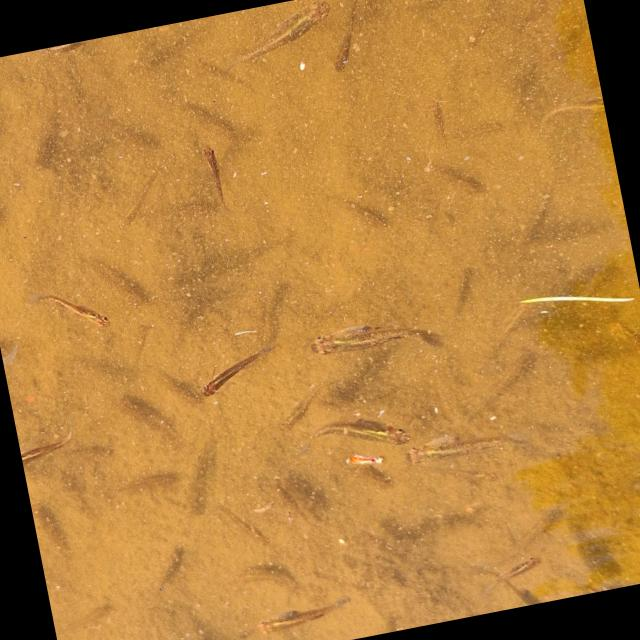Sivrisinek Baligi: (300, 307, 456, 377), (235, 0, 348, 63), (298, 403, 410, 462), (190, 341, 278, 403), (33, 276, 112, 344), (252, 591, 353, 640), (195, 140, 238, 213), (482, 550, 546, 591), (17, 430, 74, 471), (343, 445, 387, 477), (224, 318, 266, 346)
